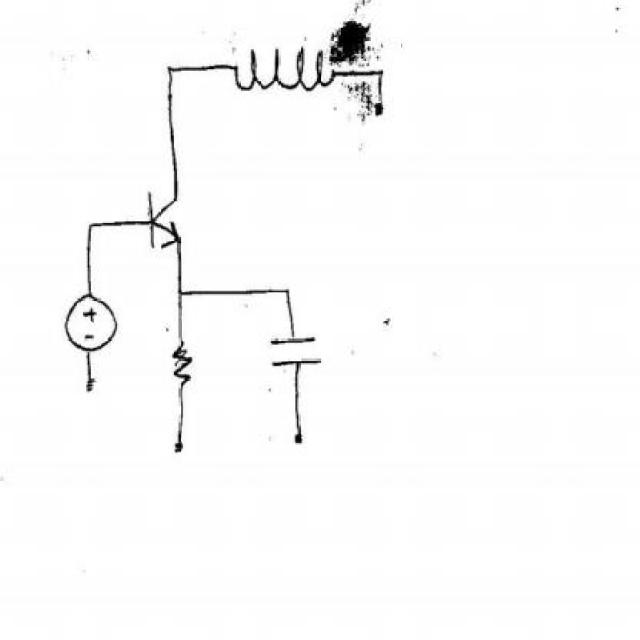capacitor: (267, 331, 326, 373)
ground: (368, 97, 391, 126), (77, 372, 99, 398), (287, 428, 312, 447), (170, 438, 190, 458)
inductor: (232, 46, 336, 101)
resistor: (169, 340, 198, 385)
transistor: (140, 182, 190, 251)
voltage_source: (61, 290, 120, 356)
